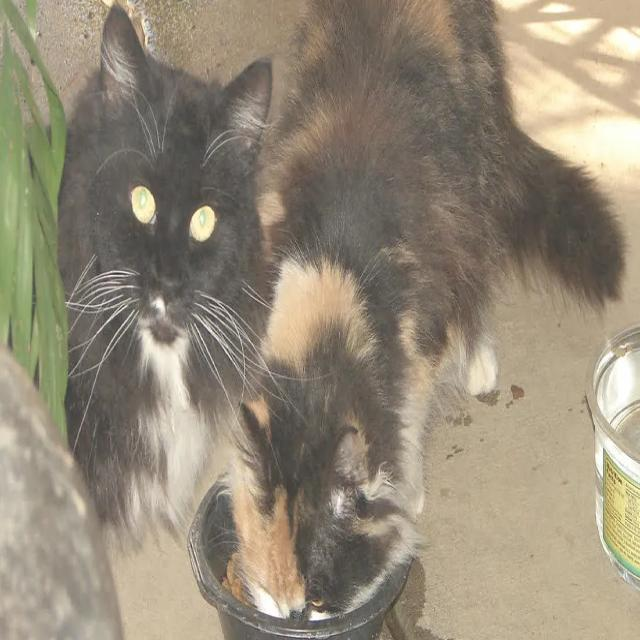cat: (231, 2, 624, 614), (59, 7, 272, 539)
